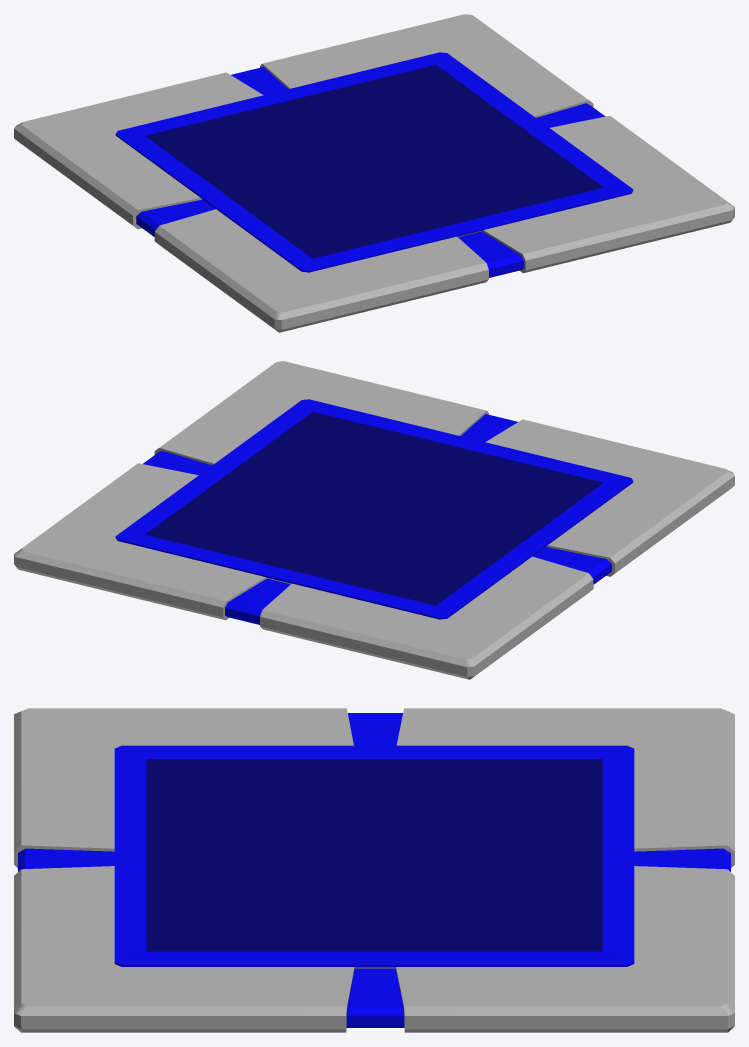
File: Lift.fbx
The picture shows the model from 3 angles, top to bottom: view 1: azimuth 30°, elevation 25°; view 2: azimuth 150°, elevation 25°; view 3: azimuth 270°, elevation 25°; orthographic projection. The views are drawn at different scales.
Visible parts, largest first — view 1: mainbody, topFrame, glow, glow2; view 2: mainbody, topFrame, glow, glow2; view 3: mainbody, topFrame, glow, glow2.
Boxes of the visible parts, box(x1,y1,x2,y2) form: mainbody: box(14, 14, 734, 332); topFrame: box(145, 65, 603, 258); glow: box(115, 52, 633, 272); glow2: box(136, 67, 605, 277); mainbody: box(14, 361, 734, 679); topFrame: box(145, 412, 603, 605); glow: box(115, 399, 633, 619); glow2: box(143, 414, 611, 624); mainbody: box(14, 708, 734, 1032); topFrame: box(146, 759, 602, 951); glow: box(114, 745, 634, 967); glow2: box(18, 713, 730, 1027).
Size of the model in its own units: 500 by 21.61 by 500.
